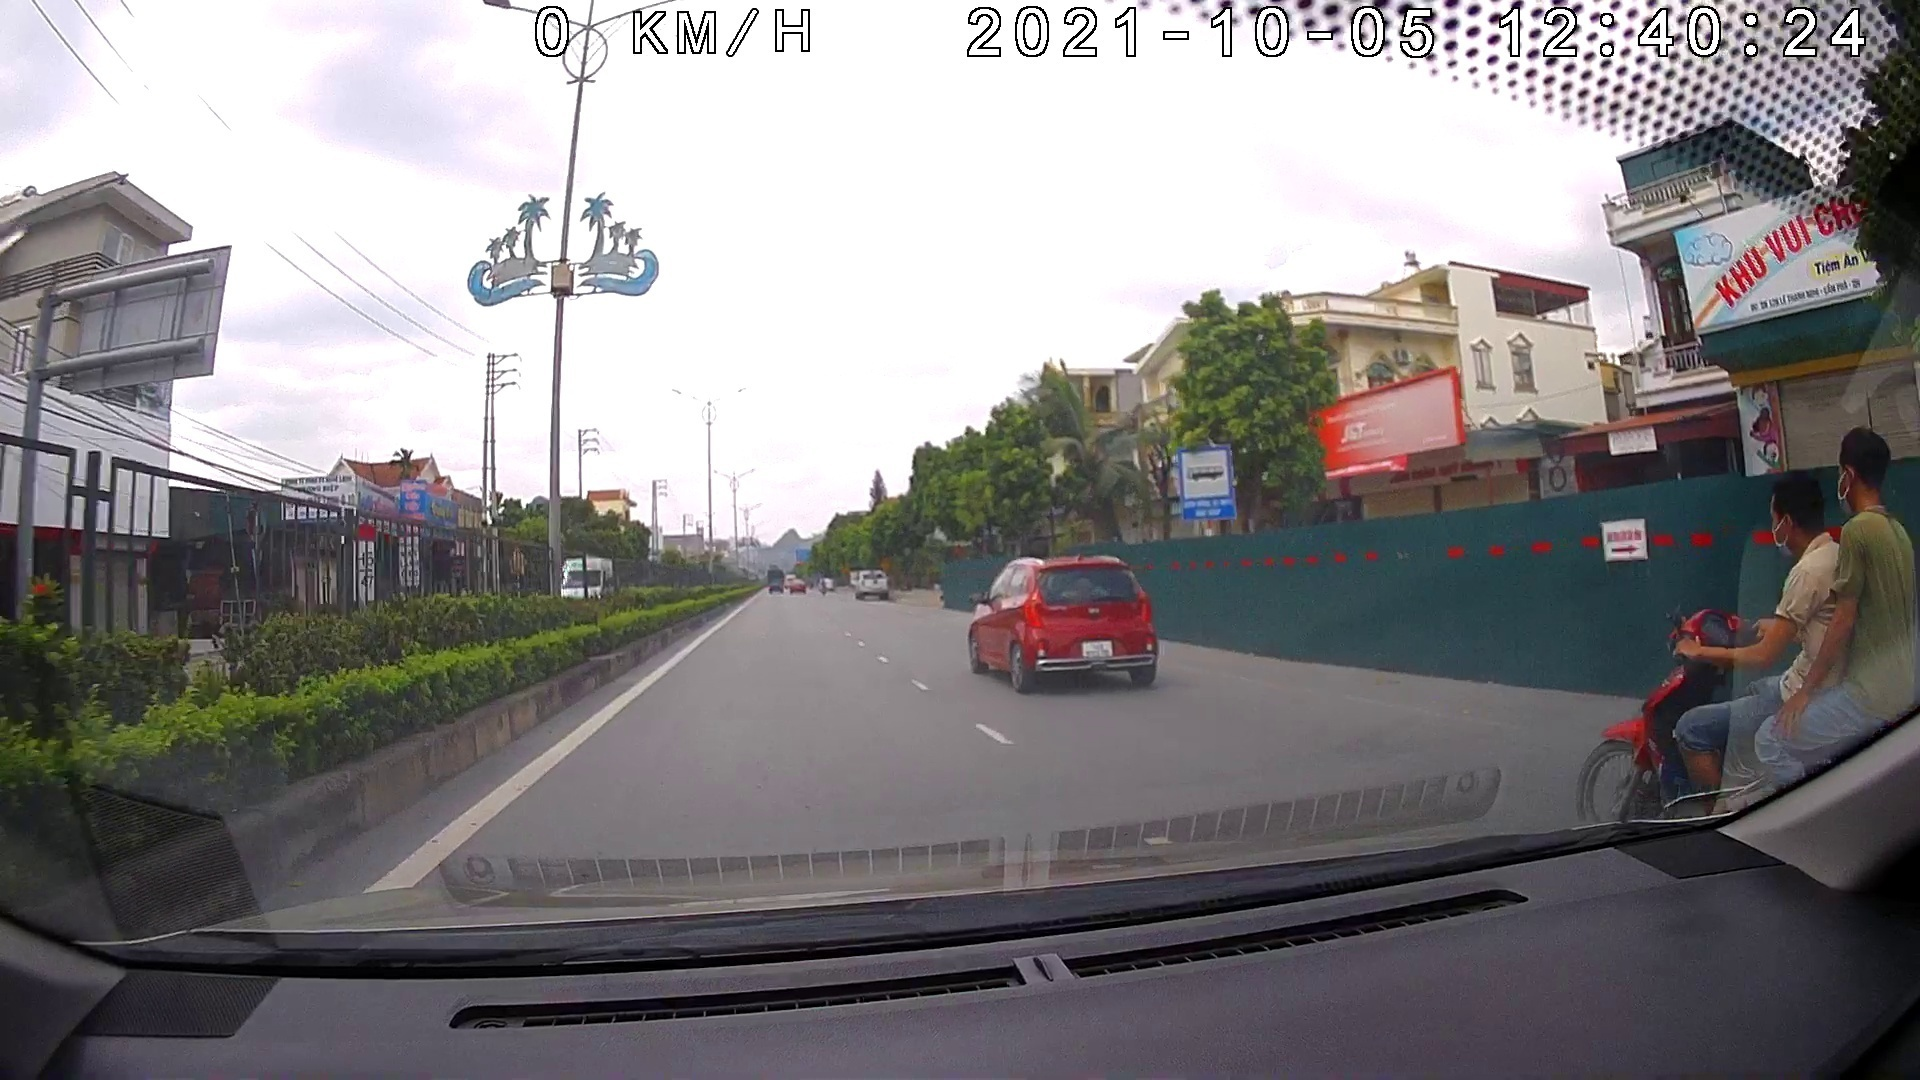Bien khac: (1178, 443, 1238, 524)
